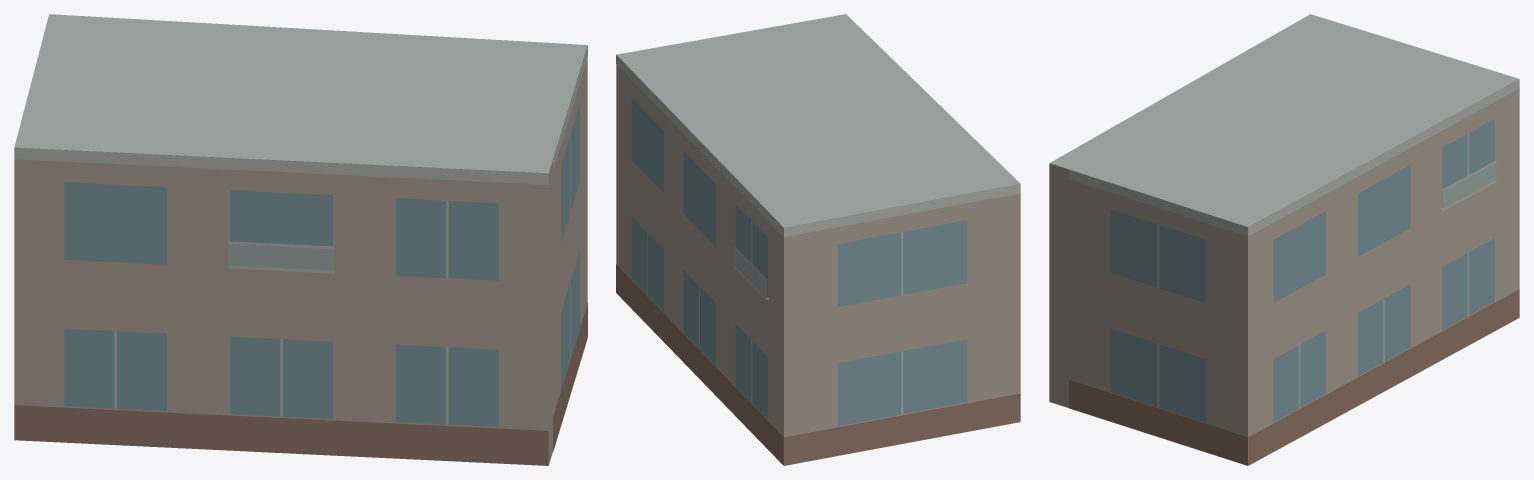
The model's file is survey-upis-32819777.glb.
3 renders of one model, left to right at view 1: azimuth 30°, elevation 25°; view 2: azimuth 150°, elevation 25°; view 3: azimuth 270°, elevation 25°, orthographic. The views are drawn at different scales.
Visible parts, largest first — view 1: survey-upis-32819777.tmp; view 2: survey-upis-32819777.tmp; view 3: survey-upis-32819777.tmp.
Part boxes in pixels (bbox=[...]): survey-upis-32819777.tmp: bbox=[14, 14, 587, 465]; survey-upis-32819777.tmp: bbox=[616, 14, 1020, 465]; survey-upis-32819777.tmp: bbox=[1049, 14, 1519, 465].
Bounding box in the file's own units: 11.68 × 6.1 × 10.89.
